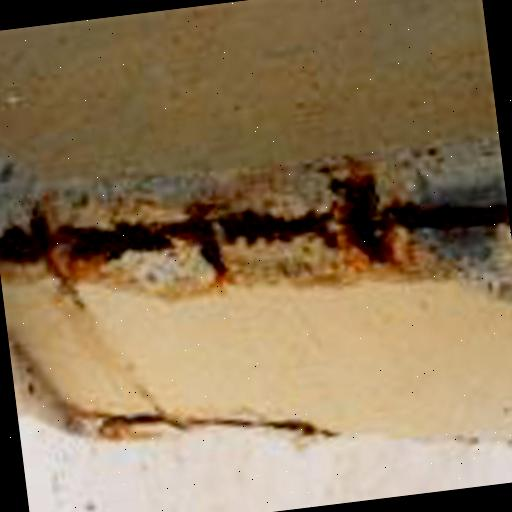spalling: (0, 136, 510, 324)
